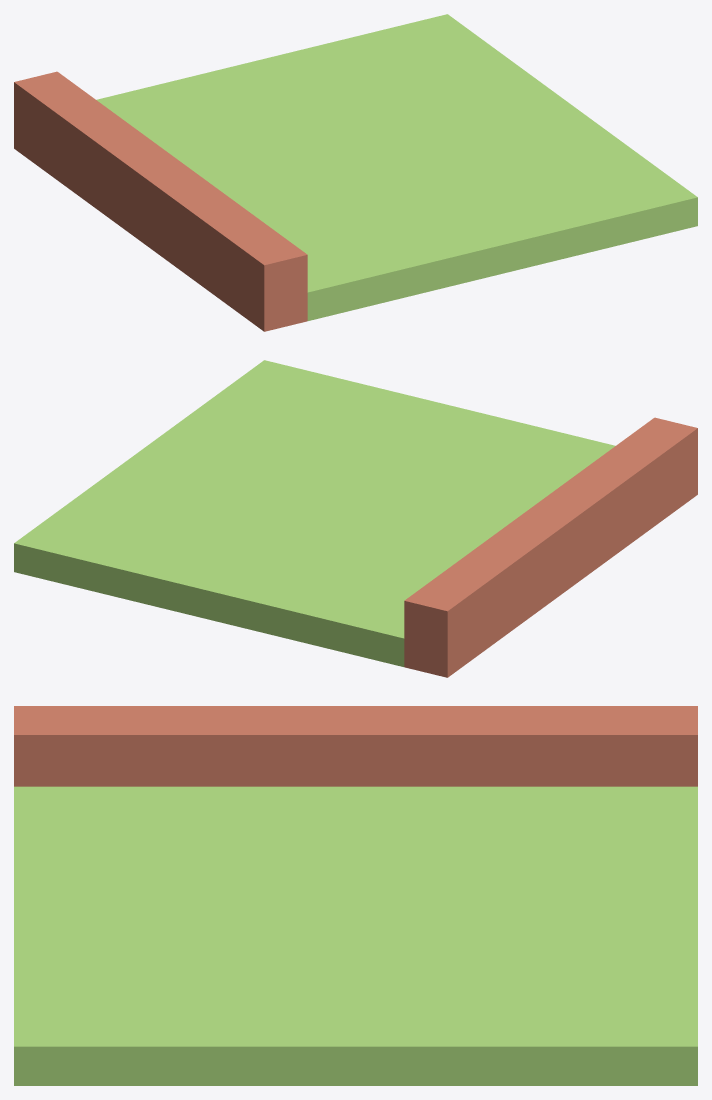
File: Side_01.glb
3 renders of one model, top to bottom at view 1: azimuth 30°, elevation 25°; view 2: azimuth 150°, elevation 25°; view 3: azimuth 270°, elevation 25°, orthographic. The views are drawn at different scales.
Parts seen in each view (by area): view 1: Mesh1 Side Model; view 2: Mesh1 Side Model; view 3: Mesh1 Side Model.
Part boxes in pixels (box(x1,y1,x2,y2)): Mesh1 Side Model: box(14, 14, 697, 331); Mesh1 Side Model: box(14, 360, 697, 677); Mesh1 Side Model: box(14, 706, 697, 1085).
Bounding box in the file's own units: 3 × 0.44 × 3.
